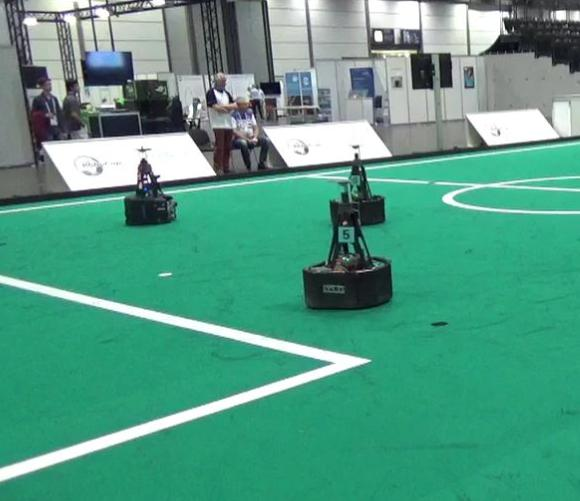robot: (299, 174, 395, 311), (322, 131, 389, 227), (119, 144, 179, 227)
